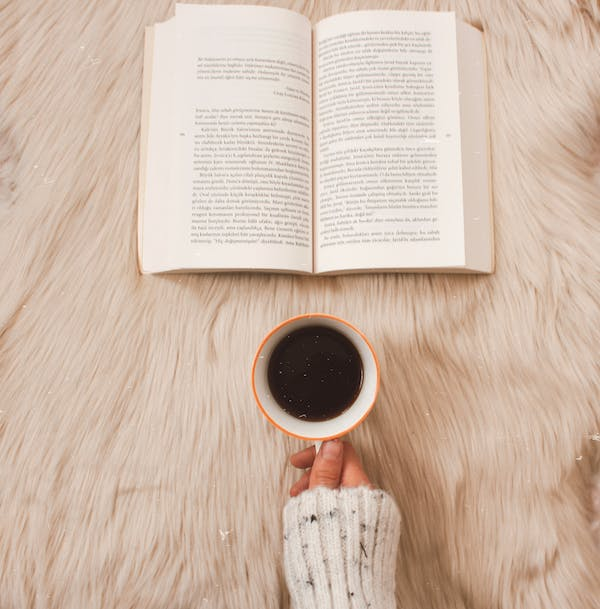book: (133, 3, 502, 280)
